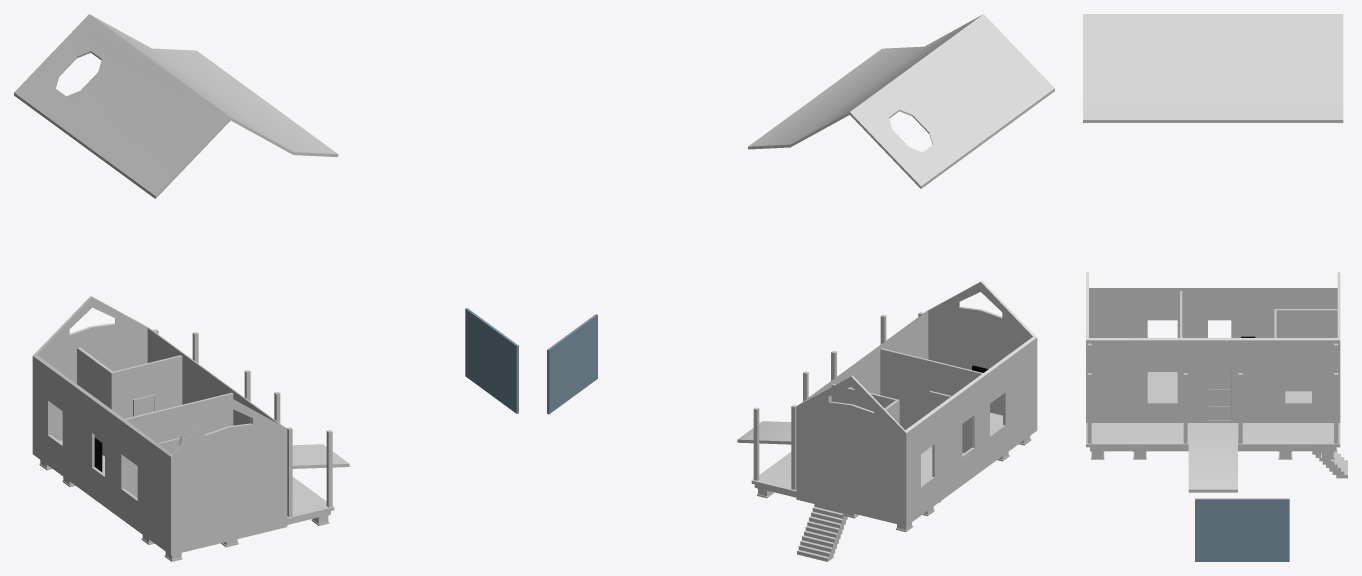
The model's file is Cabin.fbx.
The picture shows the model from 3 angles, left to right: view 1: azimuth 30°, elevation 25°; view 2: azimuth 150°, elevation 25°; view 3: azimuth 270°, elevation 25°; orthographic projection. The views are drawn at different scales.
Visible parts, largest first — view 1: House, Roof, Cellar_Room, Cube_8, Bedroom, Patio_deck; view 2: House, Roof, Bedroom, Cube_8, Patio_deck, Cellar_Room; view 3: House, Roof, Patio_deck, Cube_8, Cellar_Room, Foyer_Door, Cube_6, Cube_5, Cube_2_2, Cube_1.
Boxes of the visible parts, x1,y1,x2,y2 form: House: (32,296,287,555); Roof: (14,14,338,198); Cellar_Room: (66,347,182,480); Cube_8: (465,308,518,413); Bedroom: (124,392,233,497); Patio_deck: (282,444,349,524); House: (796,281,1037,526); Roof: (748,14,1054,188); Bedroom: (880,348,982,452); Cube_8: (547,314,597,414); Patio_deck: (737,421,800,497); Cellar_Room: (831,384,940,502); House: (1086,272,1340,422); Roof: (1083,14,1343,122); Patio_deck: (1086,423,1340,492); Cube_8: (1195,498,1289,561); Cellar_Room: (1274,309,1337,391); Foyer_Door: (1208,371,1231,420); Cube_6: (1238,373,1242,443); Cube_5: (1183,373,1187,443); Cube_2_2: (1334,373,1338,443); Cube_1: (1087,373,1091,443).
Bounding box in the file's own units: 3404 × 3671 × 2000.
